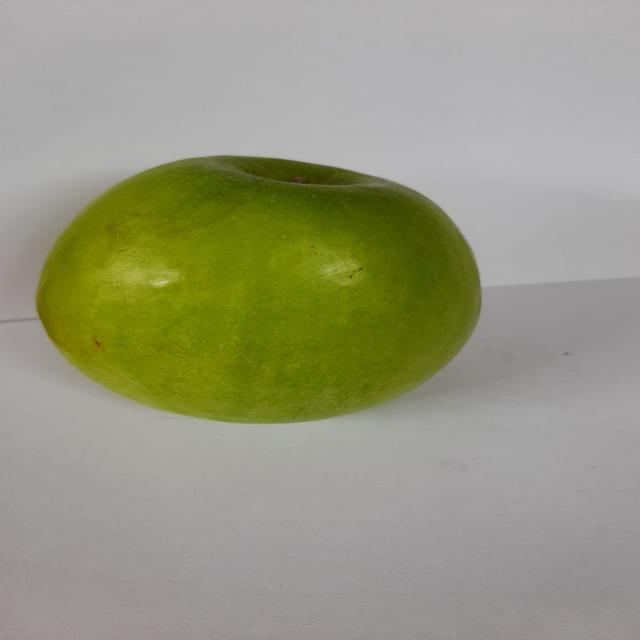50-_ripeness: (28, 138, 497, 432)
